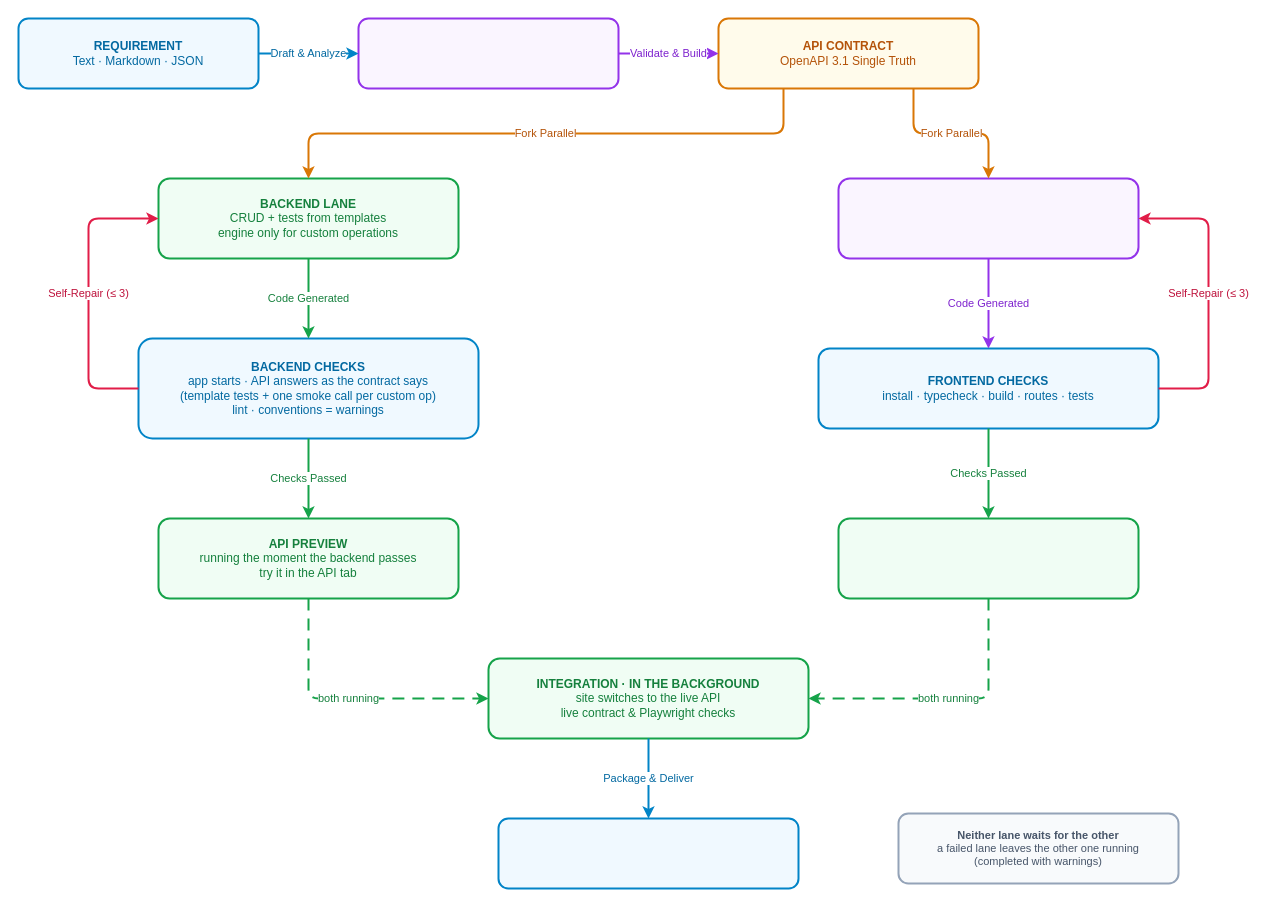
The diagram is 1266 pixels wide and 906 high, and some of its shapes have lost their labels. Each missing label, with the centre of its shape:
"ARTIFACTS READY Source Zips, OpenAPI & Report" belongs at (x=648, y=853).
"FRONTEND LANE Next.js 16 · section renderer custom components by the engine" belongs at (x=988, y=218).
"SITE PREVIEW running the moment the frontend passes App tab, on mock data" belongs at (x=988, y=558).
"SPEC DRAFTING BackendSpec & FrontendSpec" belongs at (x=488, y=53).
